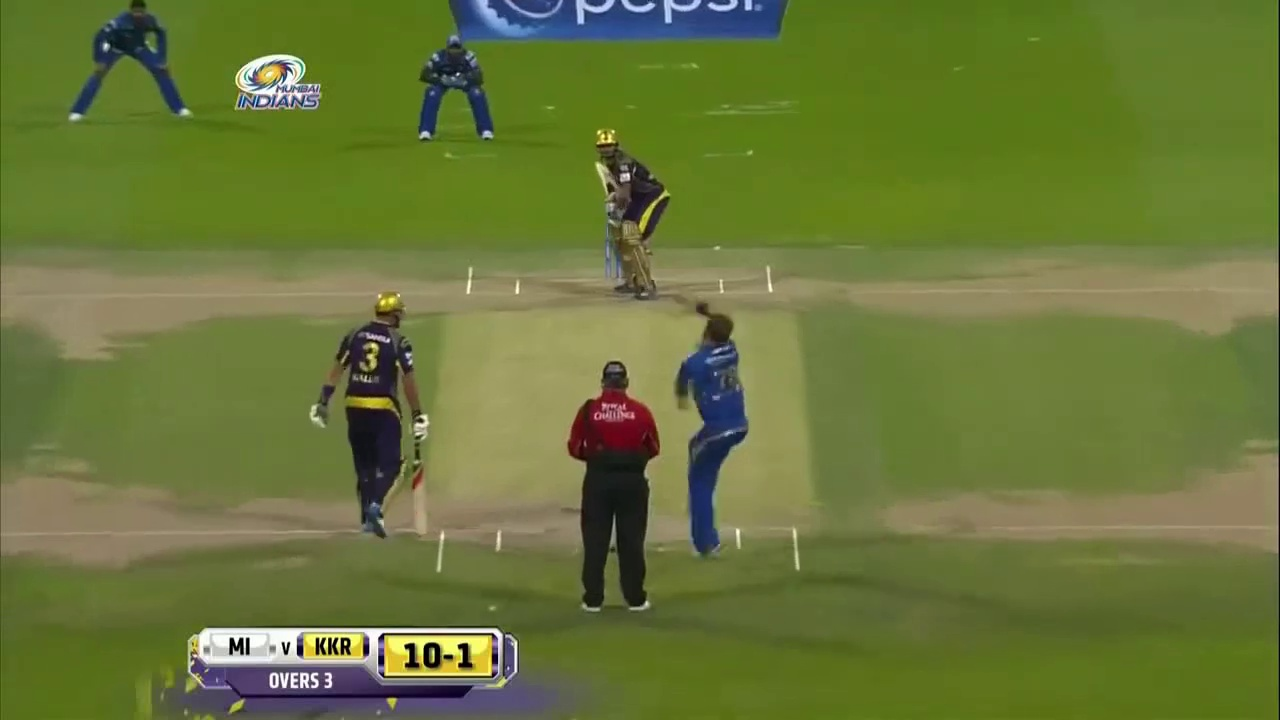bat: (409, 441, 430, 537), (595, 161, 612, 189)
